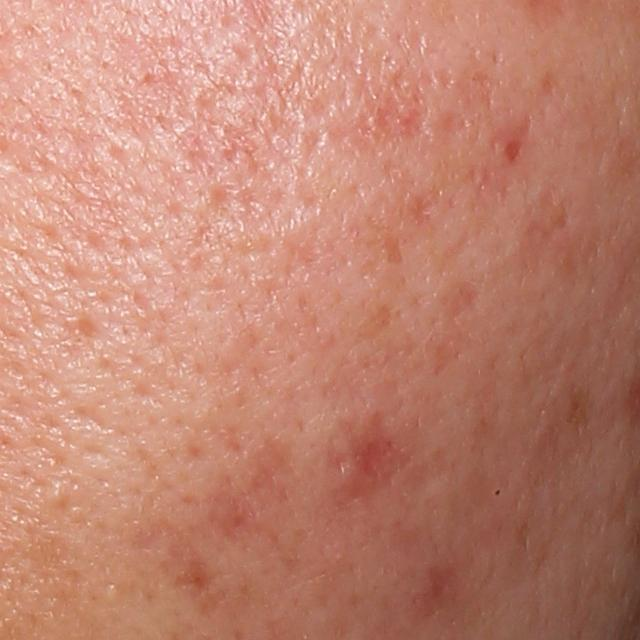atrophic_scar: (70, 313, 101, 345)
